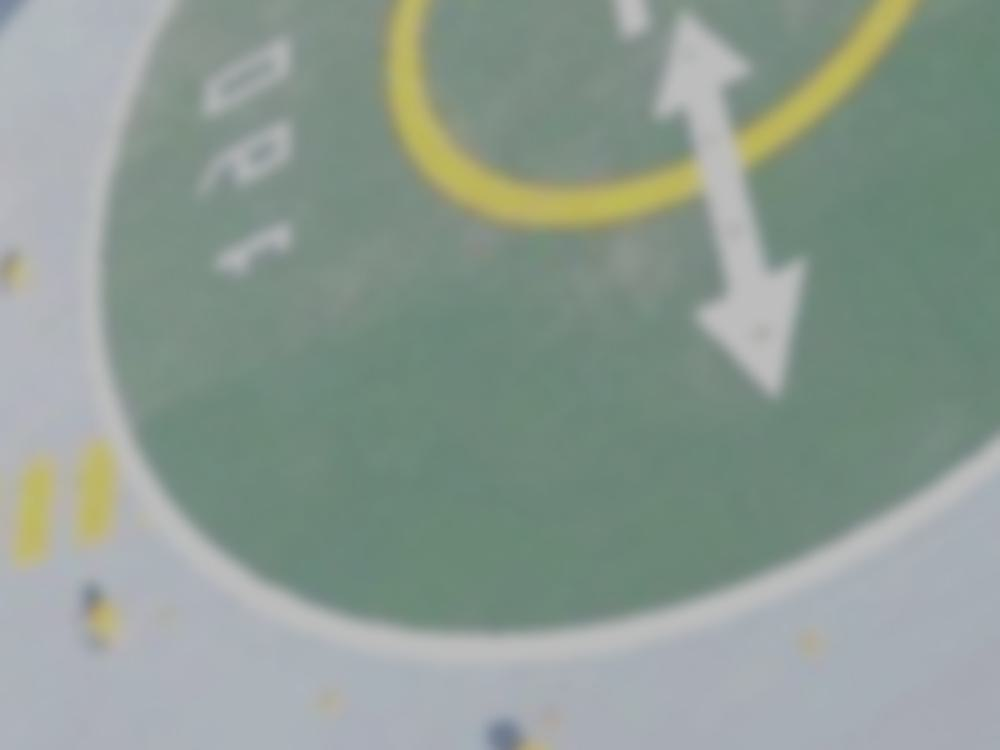Apron: (353, 1, 927, 238)
